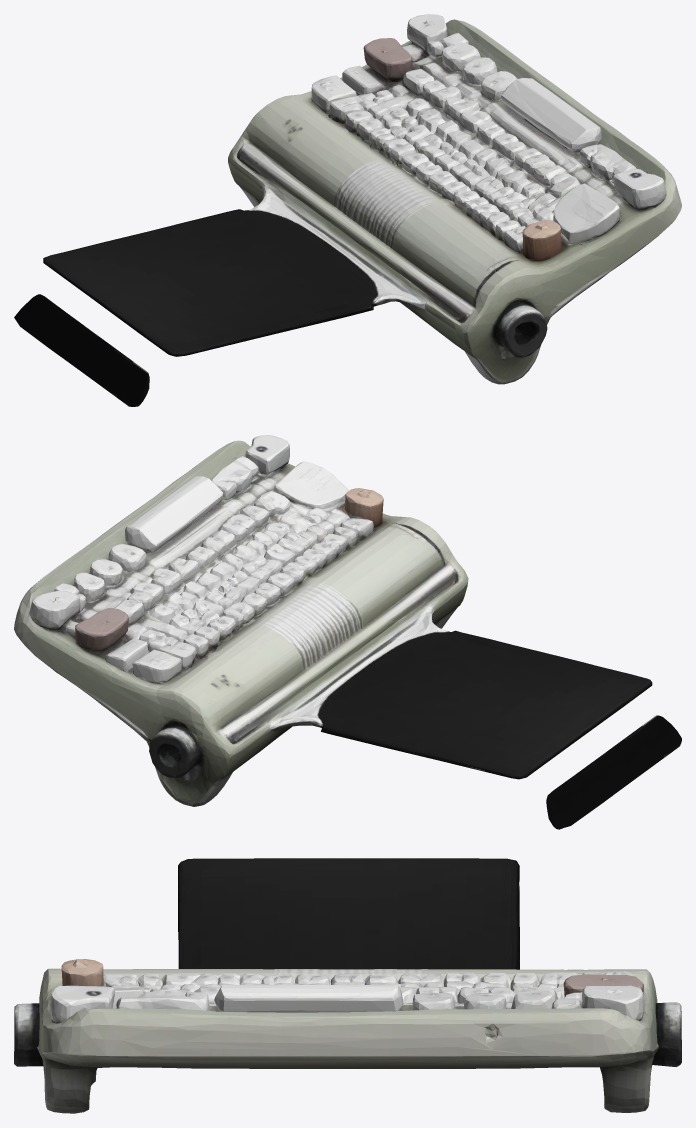
Rendered from 70c83a5a-0a61-4fd1-ac63-a15c40deb68d.glb.
3 renders of one model, top to bottom at view 1: azimuth 30°, elevation 25°; view 2: azimuth 150°, elevation 25°; view 3: azimuth 270°, elevation 25°, orthographic. The views are drawn at different scales.
Parts seen in each view (by area): view 1: world; view 2: world; view 3: world.
Part boxes in pixels (left/top/right/bottom): world: left=14, top=14, right=681, bottom=406; world: left=14, top=435, right=681, bottom=829; world: left=14, top=858, right=681, bottom=1113.
Bounding box in the file's own units: 1 × 0.3226 × 0.9102.
Materials: 1 (1 with a texture image).
